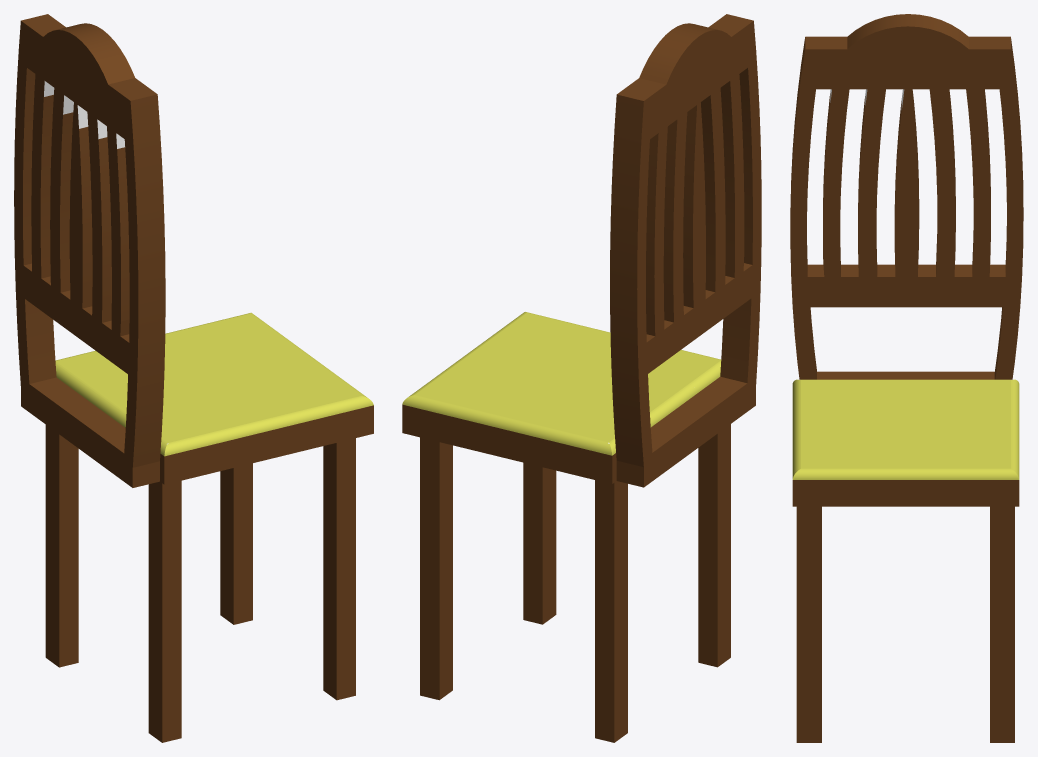
The model's file is Silla1.fbx.
3 views of the same model, side by side, from view 1: azimuth 30°, elevation 25°; view 2: azimuth 150°, elevation 25°; view 3: azimuth 270°, elevation 25° (orthographic). The views are drawn at different scales.
Visible parts, largest first — view 1: Model; view 2: Model; view 3: Model.
Boxes of the visible parts, x1,y1,x2,y2 form: Model: (14,14,373,742); Model: (402,14,761,742); Model: (790,14,1023,742).
Bounding box in the file's own units: 0.61 × 1.65 × 0.555.
